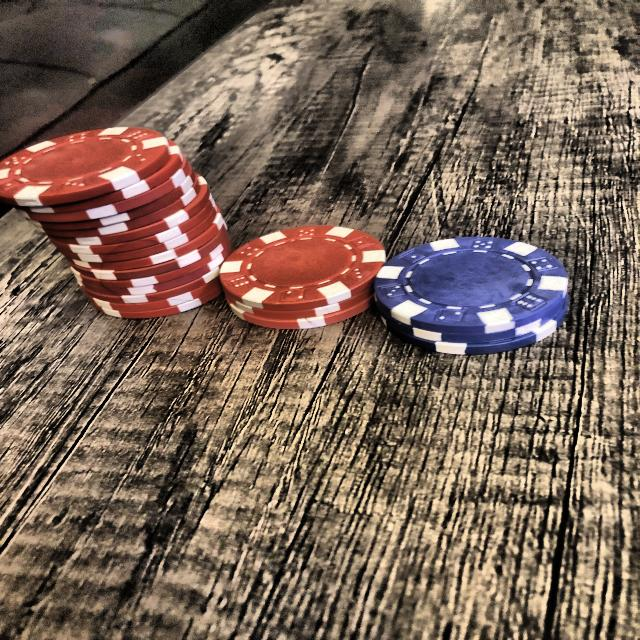Chip: (2, 122, 230, 318), (370, 234, 574, 356), (218, 222, 389, 331)
